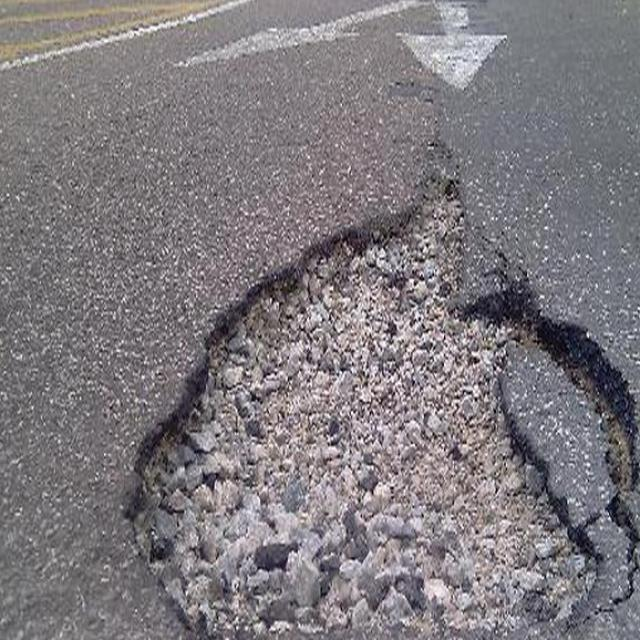Lubang: (148, 188, 637, 640)
